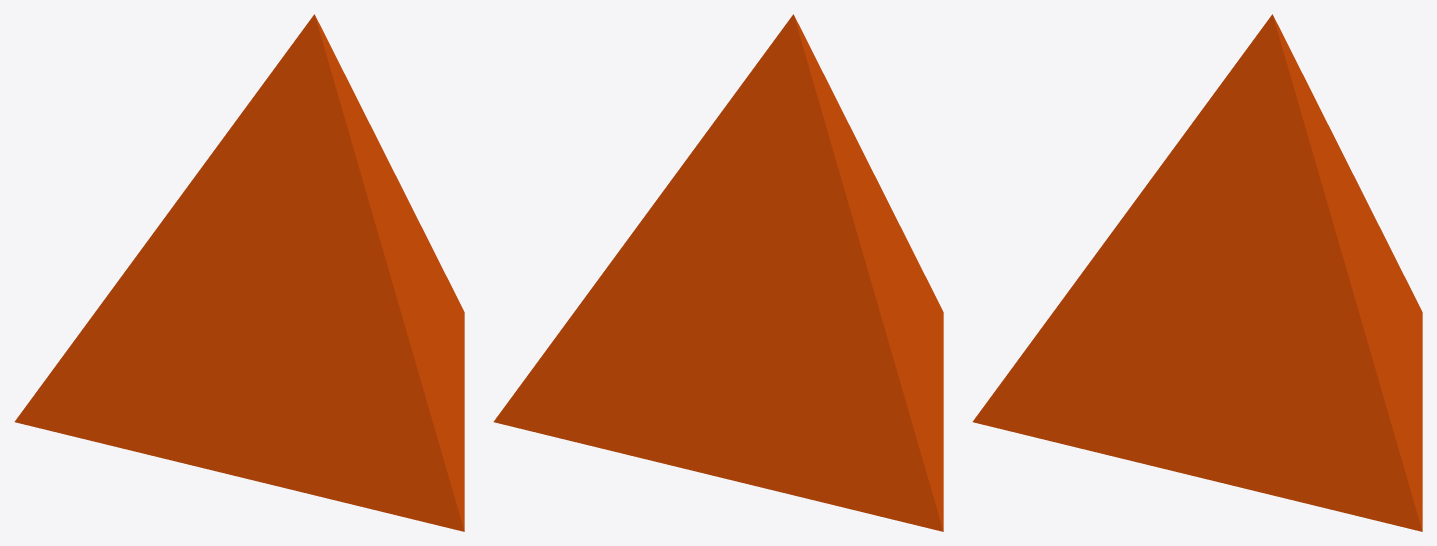
File: Three_Dice.fbx
3 views of the same model, side by side, from view 1: azimuth 30°, elevation 25°; view 2: azimuth 150°, elevation 25°; view 3: azimuth 270°, elevation 25° (orthographic).
Parts seen in each view (by area): view 1: Cone; view 2: Cone; view 3: Cone.
Part boxes in pixels (box(x1,y1,x2,y2)): Cone: box(14, 14, 464, 531); Cone: box(493, 14, 943, 531); Cone: box(972, 14, 1422, 531).
Bounding box in the file's own units: 173 × 150 × 150.
